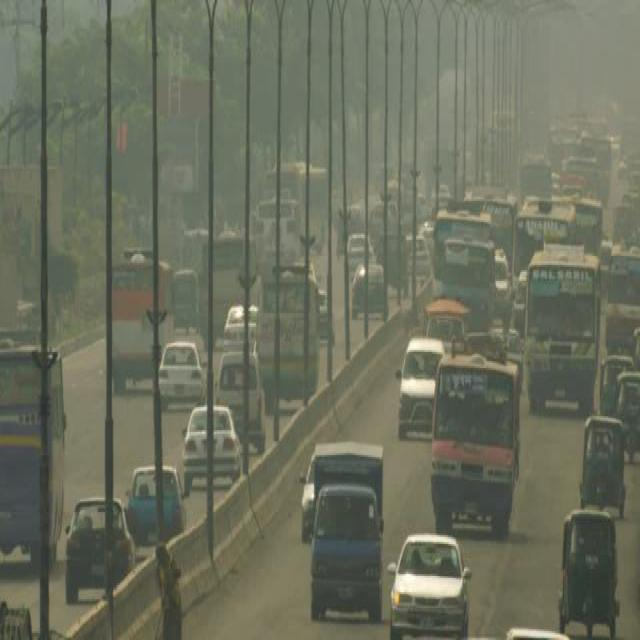Bus: (0, 343, 66, 573)
Car: (386, 530, 471, 638), (64, 496, 135, 603)
